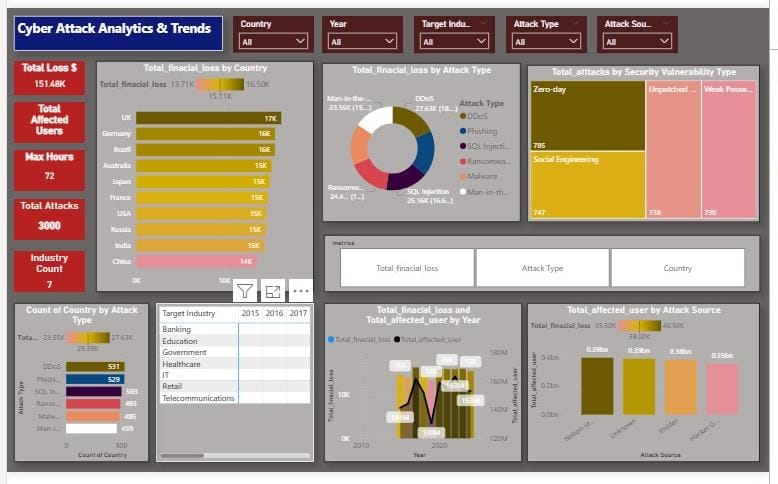

The dashboard page shown, as its layout file describes it:
{"tool":"powerbi","page":{"name":"Page 1","canvas":[1270,774],"ordinal":0},"visuals":[{"type":"textbox","box":[11.7,13.3,348.3,58.3],"z":0},{"type":"slicer","fields":{"Values":["Global_Cybersecurity_Threats_20.Country"]},"box":[376.7,13.3,135,61],"z":1000},{"type":"slicer","fields":{"Values":["Global_Cybersecurity_Threats_20.Year"]},"box":[525,13.3,135,61.7],"z":2000},{"type":"slicer","fields":{"Values":["Global_Cybersecurity_Threats_20.Target Industry"]},"box":[678.3,13.3,135,61.7],"z":3000},{"type":"slicer","fields":{"Values":["Attack_desc.Attack Type"]},"box":[831.7,13.3,135,61.7],"z":4000},{"type":"slicer","fields":{"Values":["Global_Cybersecurity_Threats_20.Attack Source"]},"box":[983.3,13.3,135,61.7],"z":5000},{"type":"card","title":"Total Loss $","fields":{"Values":["Measure.Total_finacial_loss"]},"box":[11.7,88.3,118.3,56.7],"z":6000},{"type":"card","title":"Total Affected Users","fields":{"Values":["Measure.Total_affected_user"]},"box":[11.7,156.7,118.3,68.3],"z":7000},{"type":"card","title":"Max Hours","fields":{"Values":["Measure.Max_hr"]},"box":[11.7,236.7,118.3,68.3],"z":8000},{"type":"card","title":"Total Attacks","fields":{"Values":["Measure.Total_atttacks"]},"box":[11.7,318.3,118.3,68.3],"z":9000},{"type":"card","title":"Industry Count","fields":{"Values":["Measure.Target_industry_count"]},"box":[11.7,405,118.3,68.3],"z":10000},{"type":"clusteredBarChart","fields":{"Category":["Global_Cybersecurity_Threats_20.Country"],"Y":["Measure.Total_finacial_loss"]},"box":[148.3,88.3,363.3,385],"z":11000},{"type":"donutChart","fields":{"Category":["Attack_desc.Attack Type"],"Y":["Measure.Total_finacial_loss"]},"box":[525.8,92.2,331.2,264.6],"z":12000},{"type":"treemap","fields":{"Group":["Global_Cybersecurity_Threats_20.Security Vulnerability Type"],"Values":["Measure.Total_atttacks"]},"box":[866.7,95,388.3,261.7],"z":13000},{"type":"lineStackedColumnComboChart","fields":{"Category":["Global_Cybersecurity_Threats_20.Year"],"Y":["Measure.Total_finacial_loss"],"Y2":["Measure.Total_affected_user"]},"box":[528.3,491.7,330,265],"z":14000},{"type":"columnChart","fields":{"Category":["Global_Cybersecurity_Threats_20.Attack Source"],"Y":["Measure.Total_affected_user"]},"box":[866.7,491.7,388.3,265],"z":15000},{"type":"slicer","fields":{"Values":["metrixs.metrixs"]},"box":[528.3,378.3,726.7,95],"z":16000},{"type":"pivotTable","fields":{"Rows":["Global_Cybersecurity_Threats_20.Target Industry"],"Columns":["Global_Cybersecurity_Threats_20.Year"]},"box":[248.3,491.7,263.3,265],"z":16001},{"type":"barChart","fields":{"Y":["CountNonNull(Global_Cybersecurity_Threats_20.Country)"],"Category":["Attack_desc.Attack Type"]},"box":[11.7,491.7,225,265],"z":16002}]}

Visuals, with their boxes in screenshot pixels (x1, y1, x2, y2), scaled from the page's 1270x774 canvas onto the 778x484 screenshot:
textbox: locate(7, 8, 221, 45)
slicer - Global_Cybersecurity_Threats_20.Country: locate(231, 8, 313, 46)
slicer - Global_Cybersecurity_Threats_20.Year: locate(322, 8, 404, 47)
slicer - Global_Cybersecurity_Threats_20.Target Industry: locate(416, 8, 498, 47)
slicer - Attack_desc.Attack Type: locate(509, 8, 592, 47)
slicer - Global_Cybersecurity_Threats_20.Attack Source: locate(602, 8, 685, 47)
"Total Loss $" card: locate(7, 55, 80, 91)
"Total Affected Users" card: locate(7, 98, 80, 141)
"Max Hours" card: locate(7, 148, 80, 191)
"Total Attacks" card: locate(7, 199, 80, 242)
"Industry Count" card: locate(7, 253, 80, 296)
clusteredBarChart - Global_Cybersecurity_Threats_20.Country x Measure.Total_finacial_loss: locate(91, 55, 313, 296)
donutChart - Attack_desc.Attack Type x Measure.Total_finacial_loss: locate(322, 58, 525, 223)
treemap - Global_Cybersecurity_Threats_20.Security Vulnerability Type x Measure.Total_atttacks: locate(531, 59, 769, 223)
lineStackedColumnComboChart - Global_Cybersecurity_Threats_20.Year x Measure.Total_finacial_loss: locate(324, 307, 526, 473)
columnChart - Global_Cybersecurity_Threats_20.Attack Source x Measure.Total_affected_user: locate(531, 307, 769, 473)
slicer - metrixs.metrixs: locate(324, 237, 769, 296)
pivotTable - Global_Cybersecurity_Threats_20.Target Industry x Global_Cybersecurity_Threats_20.Year: locate(152, 307, 313, 473)
barChart - CountNonNull(Global_Cybersecurity_Threats_20.Country) x Attack_desc.Attack Type: locate(7, 307, 145, 473)
